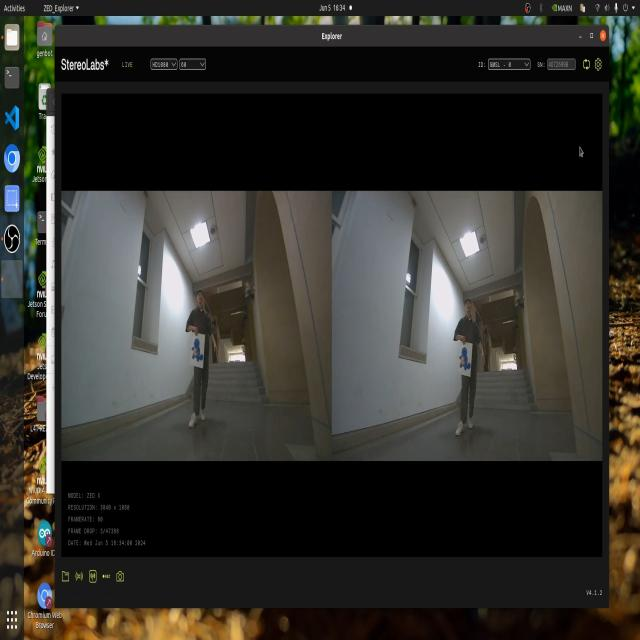blue: (458, 344, 474, 379), (190, 338, 206, 368)
